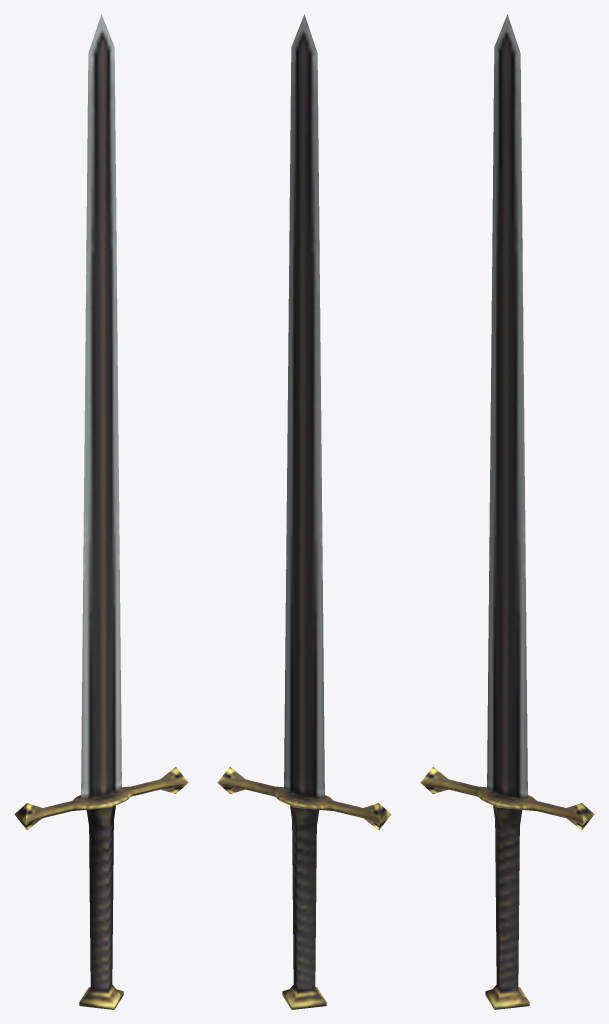
The model's file is Sword20.FBX.
3 renders of one model, left to right at view 1: azimuth 30°, elevation 25°; view 2: azimuth 150°, elevation 25°; view 3: azimuth 330°, elevation 25°, orthographic.
Parts seen in each view (by area): view 1: Sword20; view 2: Sword20; view 3: Sword20.
Boxes of the visible parts, left/top/right/bottom form: Sword20: left=14, top=14, right=188, bottom=1009; Sword20: left=217, top=14, right=391, bottom=1009; Sword20: left=420, top=14, right=594, bottom=1009.
Size of the model in its own units: 19.9 by 116 by 5.4.
